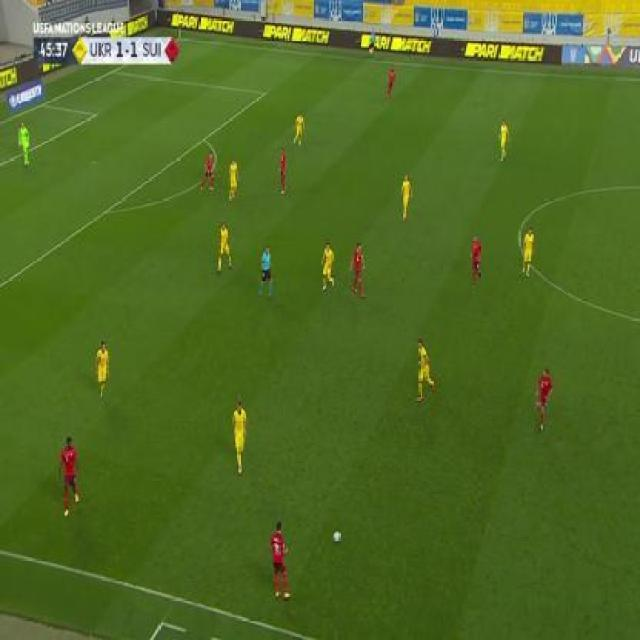ball: (333, 529, 341, 543)
player: (56, 433, 81, 518), (268, 518, 291, 600), (413, 338, 436, 403), (231, 396, 247, 475), (535, 366, 554, 431), (348, 241, 367, 298), (95, 339, 111, 401), (216, 220, 233, 274), (258, 243, 274, 299), (521, 226, 537, 279), (320, 241, 336, 292), (398, 172, 414, 223), (16, 119, 32, 167), (199, 150, 216, 192), (469, 234, 482, 288), (497, 117, 511, 162), (227, 158, 240, 203), (277, 146, 288, 197), (292, 108, 306, 147), (385, 63, 398, 102), (367, 27, 376, 56)
